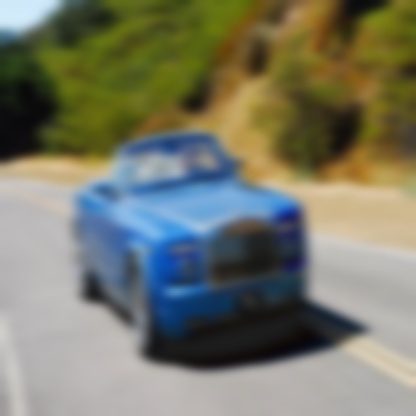Vehicle: (72, 132, 312, 361)
